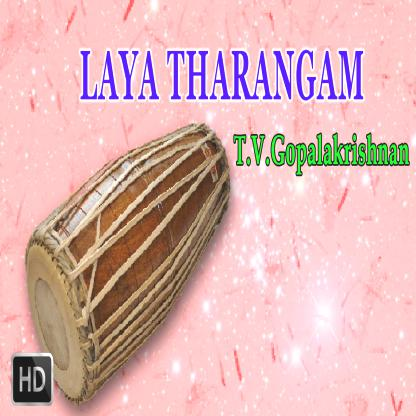Mridangam: (23, 116, 236, 410)
